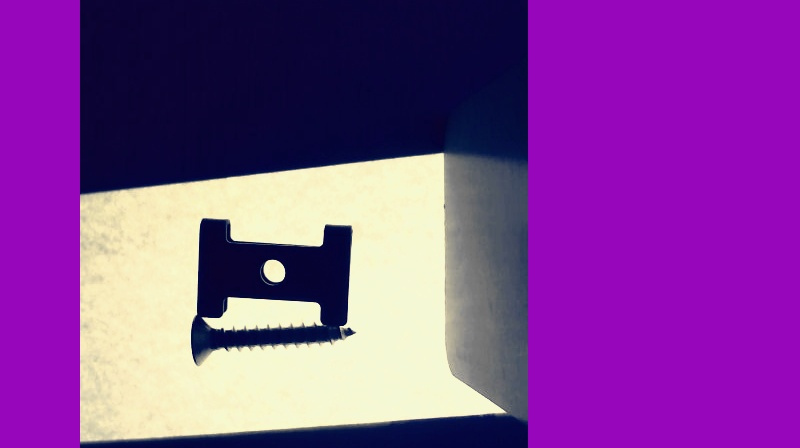O002: (195, 216, 352, 323)
S001: (188, 312, 357, 366)
